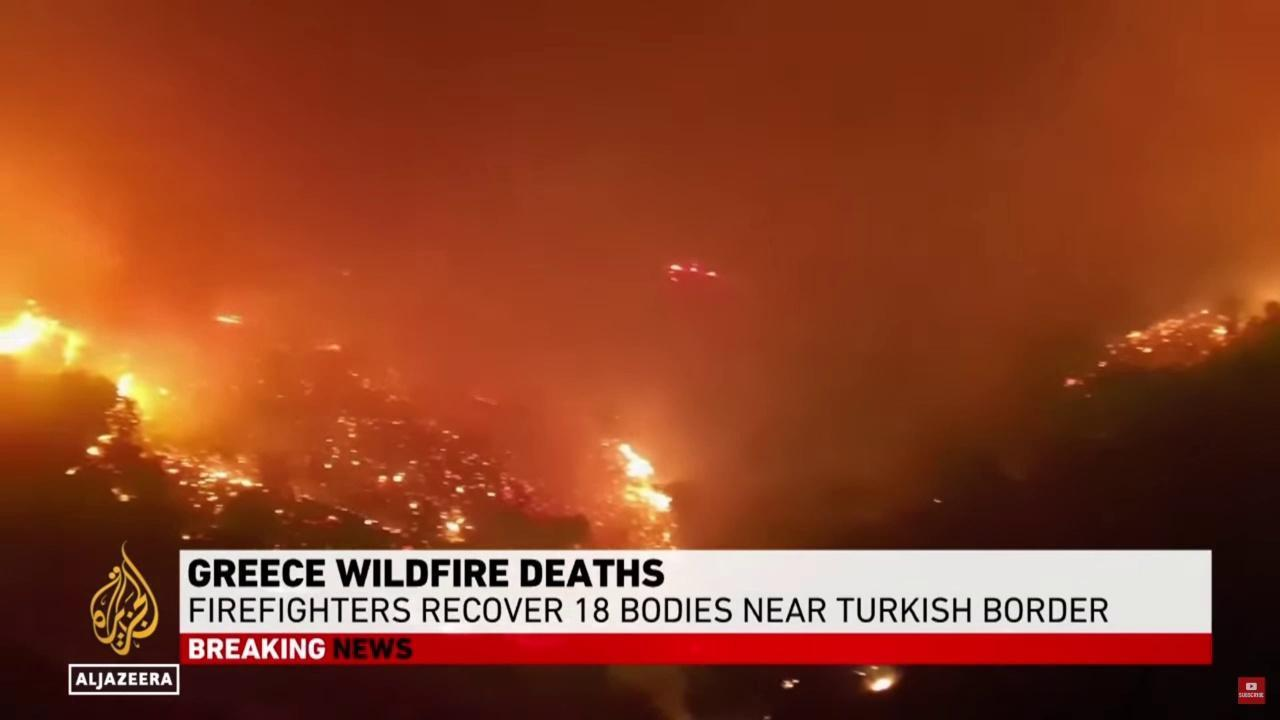fire: (1098, 307, 1250, 368), (597, 431, 681, 541), (153, 437, 271, 515), (0, 295, 93, 388), (87, 368, 158, 466), (434, 505, 480, 541), (670, 258, 719, 287), (107, 483, 137, 504), (337, 413, 360, 440), (1059, 371, 1085, 391), (211, 311, 244, 326), (393, 471, 407, 485), (64, 464, 79, 477), (408, 501, 421, 516), (360, 517, 379, 527), (486, 488, 498, 500), (455, 483, 466, 496), (377, 472, 387, 486), (275, 508, 288, 517), (327, 513, 338, 523), (350, 459, 362, 468), (323, 462, 334, 470), (180, 535, 191, 541)
smoke: (0, 0, 1280, 543)
